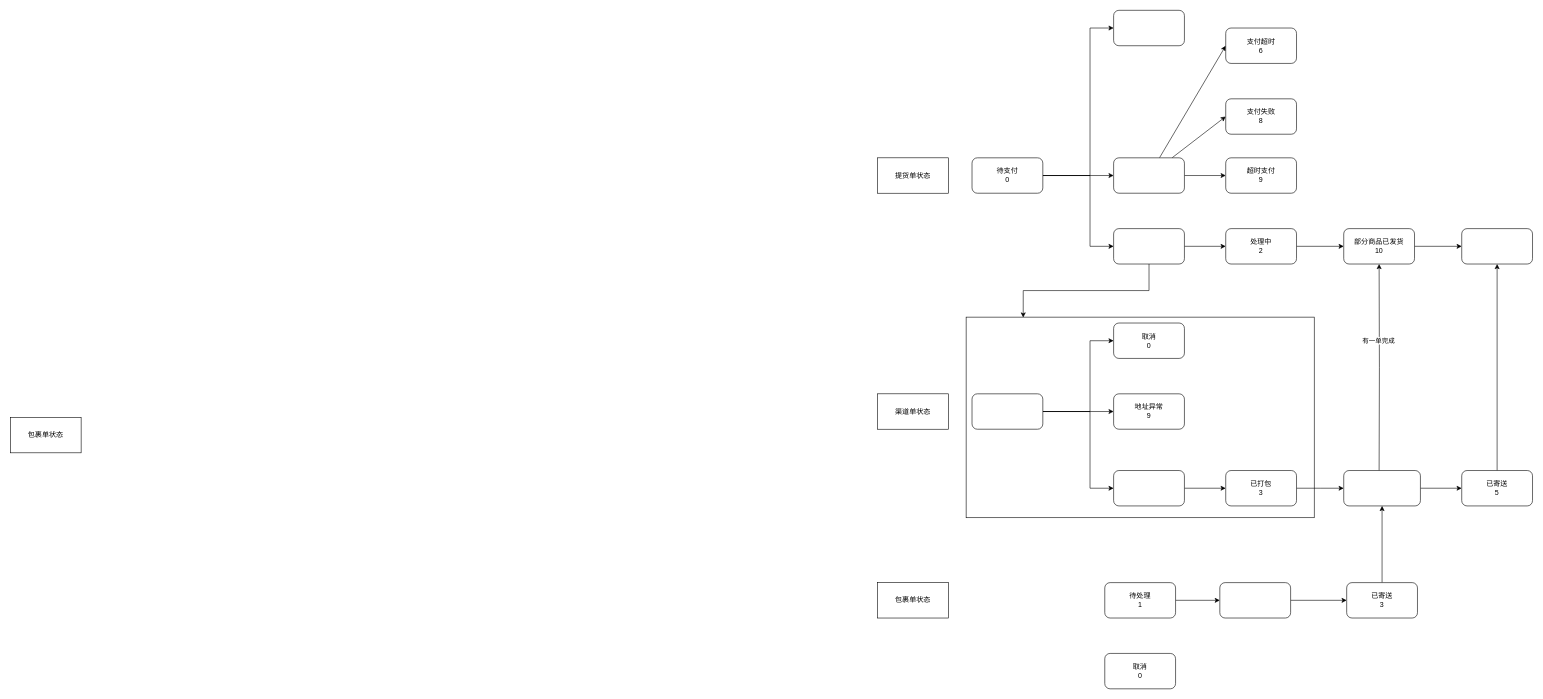
Some shapes in this 1543 by 699 pixel diagram are drawn without their labels. Each missing label, with the centre of its shape:
可发货 2: the point at 1148,488
客服已取消 5: the point at 1148,28
已下单物流 2: the point at 1255,600
已完成（所有商品已发货） 3: the point at 1497,246
已支付/ 待处理 1: the point at 1148,246
待发货 1: the point at 1007,411
支付异常: the point at 1148,175
部分商品已发货 4: the point at 1381,488
